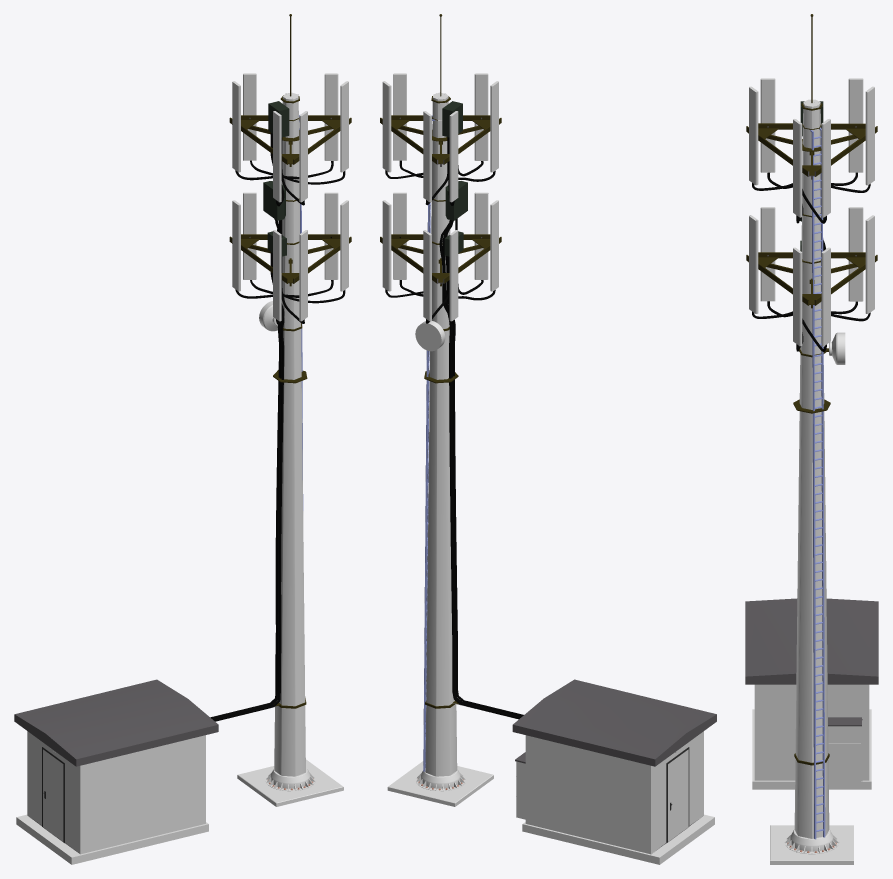
The model's file is CommsTower.glb.
The picture shows the model from 3 angles, left to right: view 1: azimuth 30°, elevation 25°; view 2: azimuth 150°, elevation 25°; view 3: azimuth 270°, elevation 25°; orthographic projection. The views are drawn at different scales.
Parts seen in each view (by area): view 1: CELL_SITE_MESH; view 2: CELL_SITE_MESH; view 3: CELL_SITE_MESH.
Part boxes in pixels (bbox=[...]): CELL_SITE_MESH: bbox=[14, 14, 351, 864]; CELL_SITE_MESH: bbox=[380, 14, 716, 864]; CELL_SITE_MESH: bbox=[745, 14, 878, 864].
Bounding box in the file's own units: 29.2 × 70.36 × 10.22.
